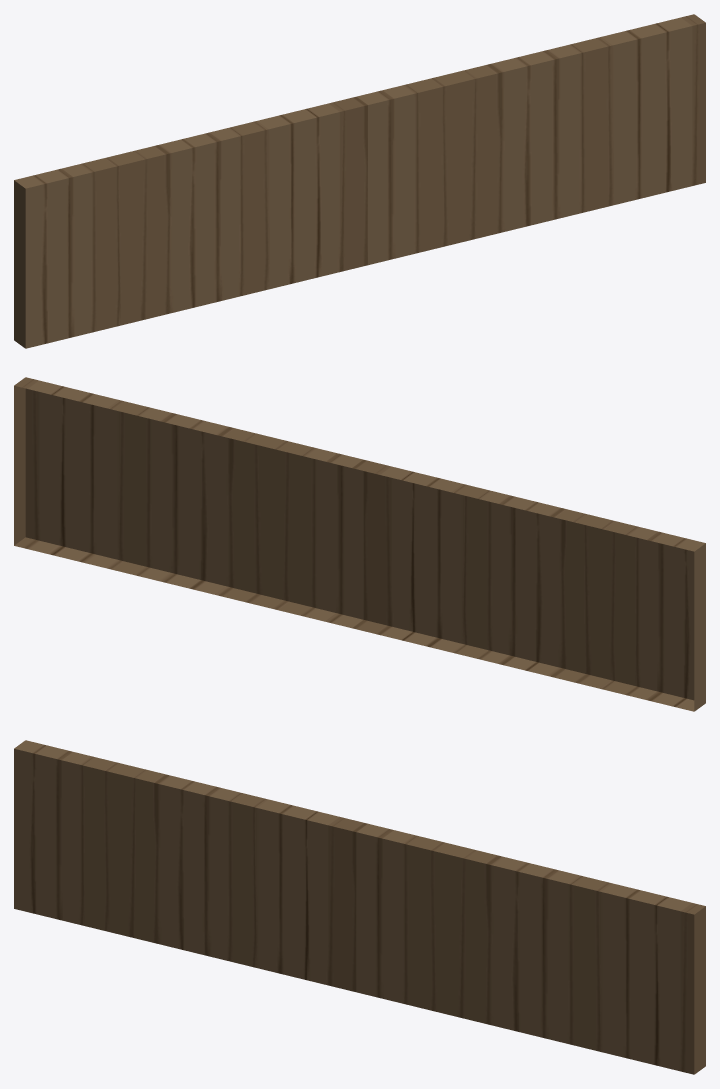
The model's file is SM_Env_Wall_04.fbx.
3 renders of one model, top to bottom at view 1: azimuth 30°, elevation 25°; view 2: azimuth 150°, elevation 25°; view 3: azimuth 330°, elevation 25°, orthographic.
Visible parts, largest first — view 1: SM_Env_Wall_04; view 2: SM_Env_Wall_04; view 3: SM_Env_Wall_04.
Boxes of the visible parts, x1=… form: SM_Env_Wall_04: x1=14, y1=14, x2=705, y2=348; SM_Env_Wall_04: x1=14, y1=377, x2=705, y2=711; SM_Env_Wall_04: x1=14, y1=740, x2=705, y2=1074.
Bounding box in the file's own units: 342 × 76.91 × 10.13.
Materials: 1 (1 with a texture image).
